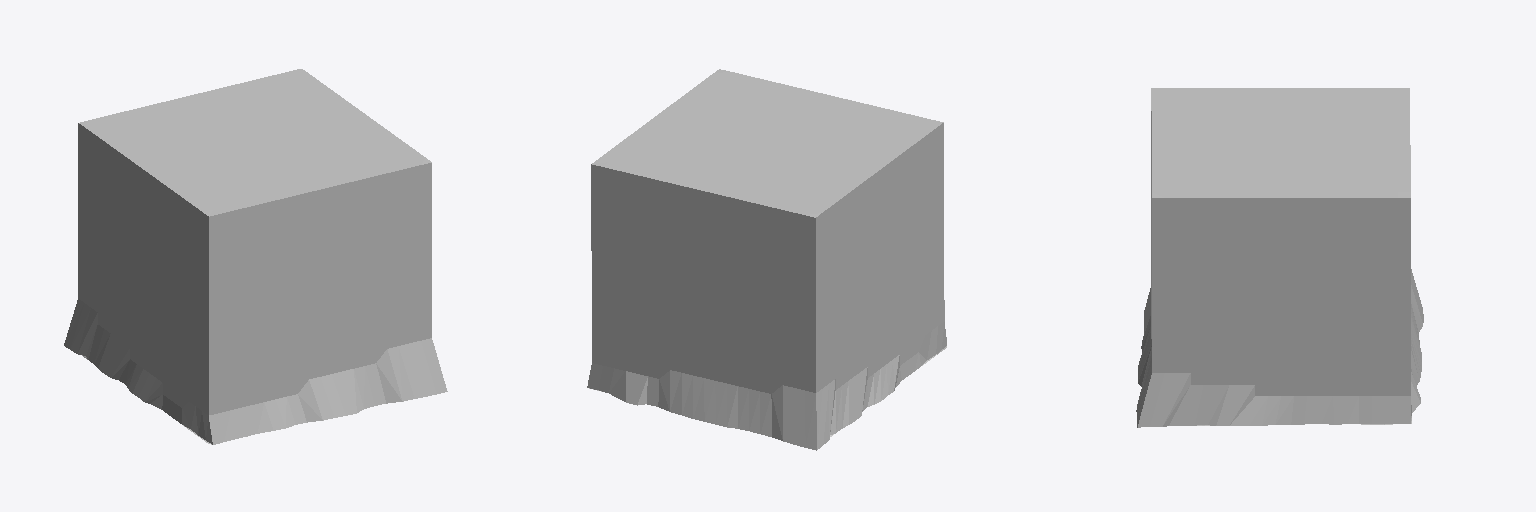
Rendered from mod0224.obj.
The picture shows the model from 3 angles: view 1: azimuth 30°, elevation 25°; view 2: azimuth 150°, elevation 25°; view 3: azimuth 270°, elevation 25°; orthographic projection.
Visible parts, largest first — view 1: Box001; view 2: Box001; view 3: Box001.
Boxes of the visible parts, x1,y1,x2,y2 form: Box001: [64, 69, 447, 444]; Box001: [587, 69, 946, 450]; Box001: [1136, 88, 1423, 427].
Size of the model in its own units: 0.5799 by 0.5221 by 0.5979.